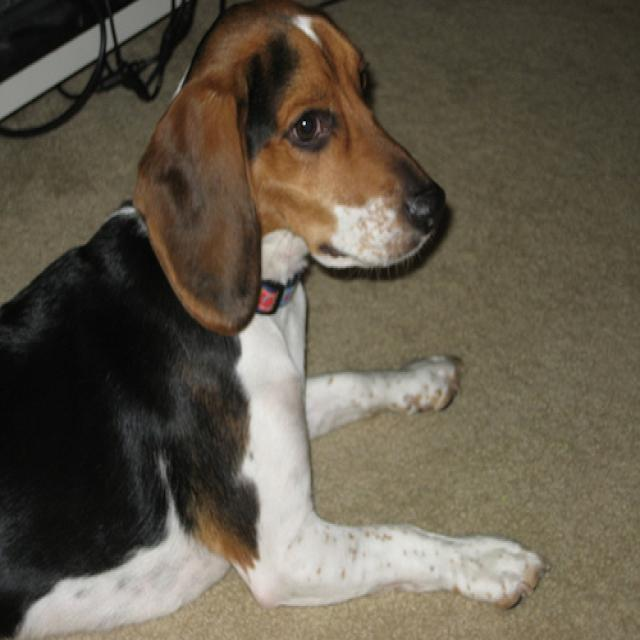dog-beagle: (1, 2, 548, 637)
